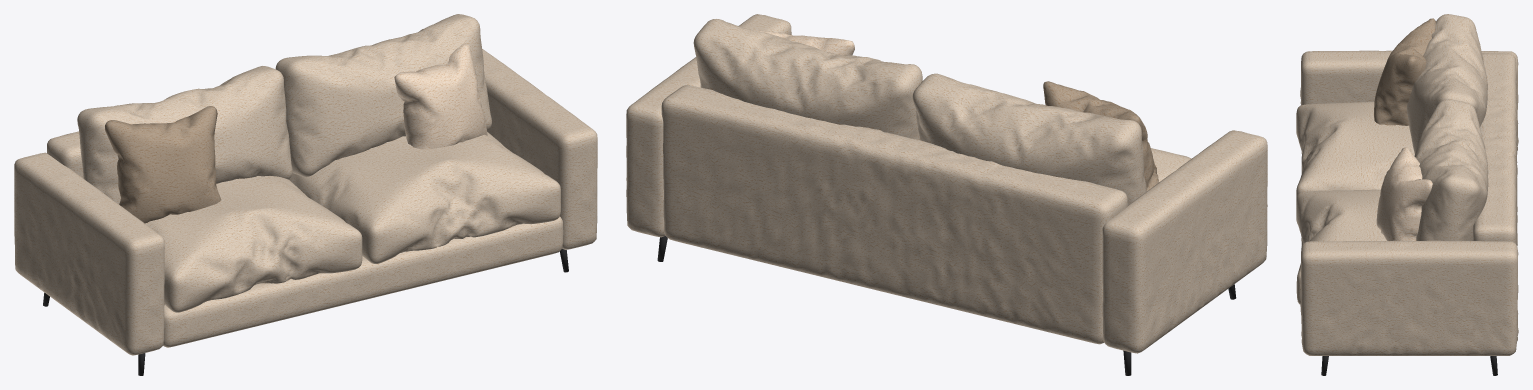
Rendered from canopee_sofa.gltf.
3 views of the same model, side by side, from view 1: azimuth 30°, elevation 25°; view 2: azimuth 150°, elevation 25°; view 3: azimuth 270°, elevation 25° (orthographic). The views are drawn at different scales.
Parts seen in each view (by area): view 1: canopee_sofa; view 2: canopee_sofa; view 3: canopee_sofa.
Boxes of the visible parts, x1,y1,x2,y2 form: canopee_sofa: [14, 14, 597, 375]; canopee_sofa: [626, 14, 1267, 375]; canopee_sofa: [1296, 14, 1518, 375].
Bounding box in the file's own units: 2.21 × 0.9332 × 1.
5 materials, 3 textured.
